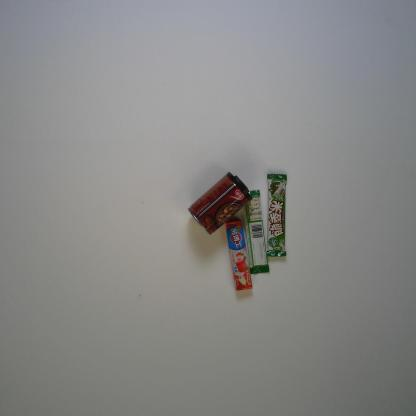Candy: (224, 219, 254, 292)
Canned Food: (186, 171, 254, 237)
Chocolate: (241, 188, 269, 275), (265, 172, 288, 258)
